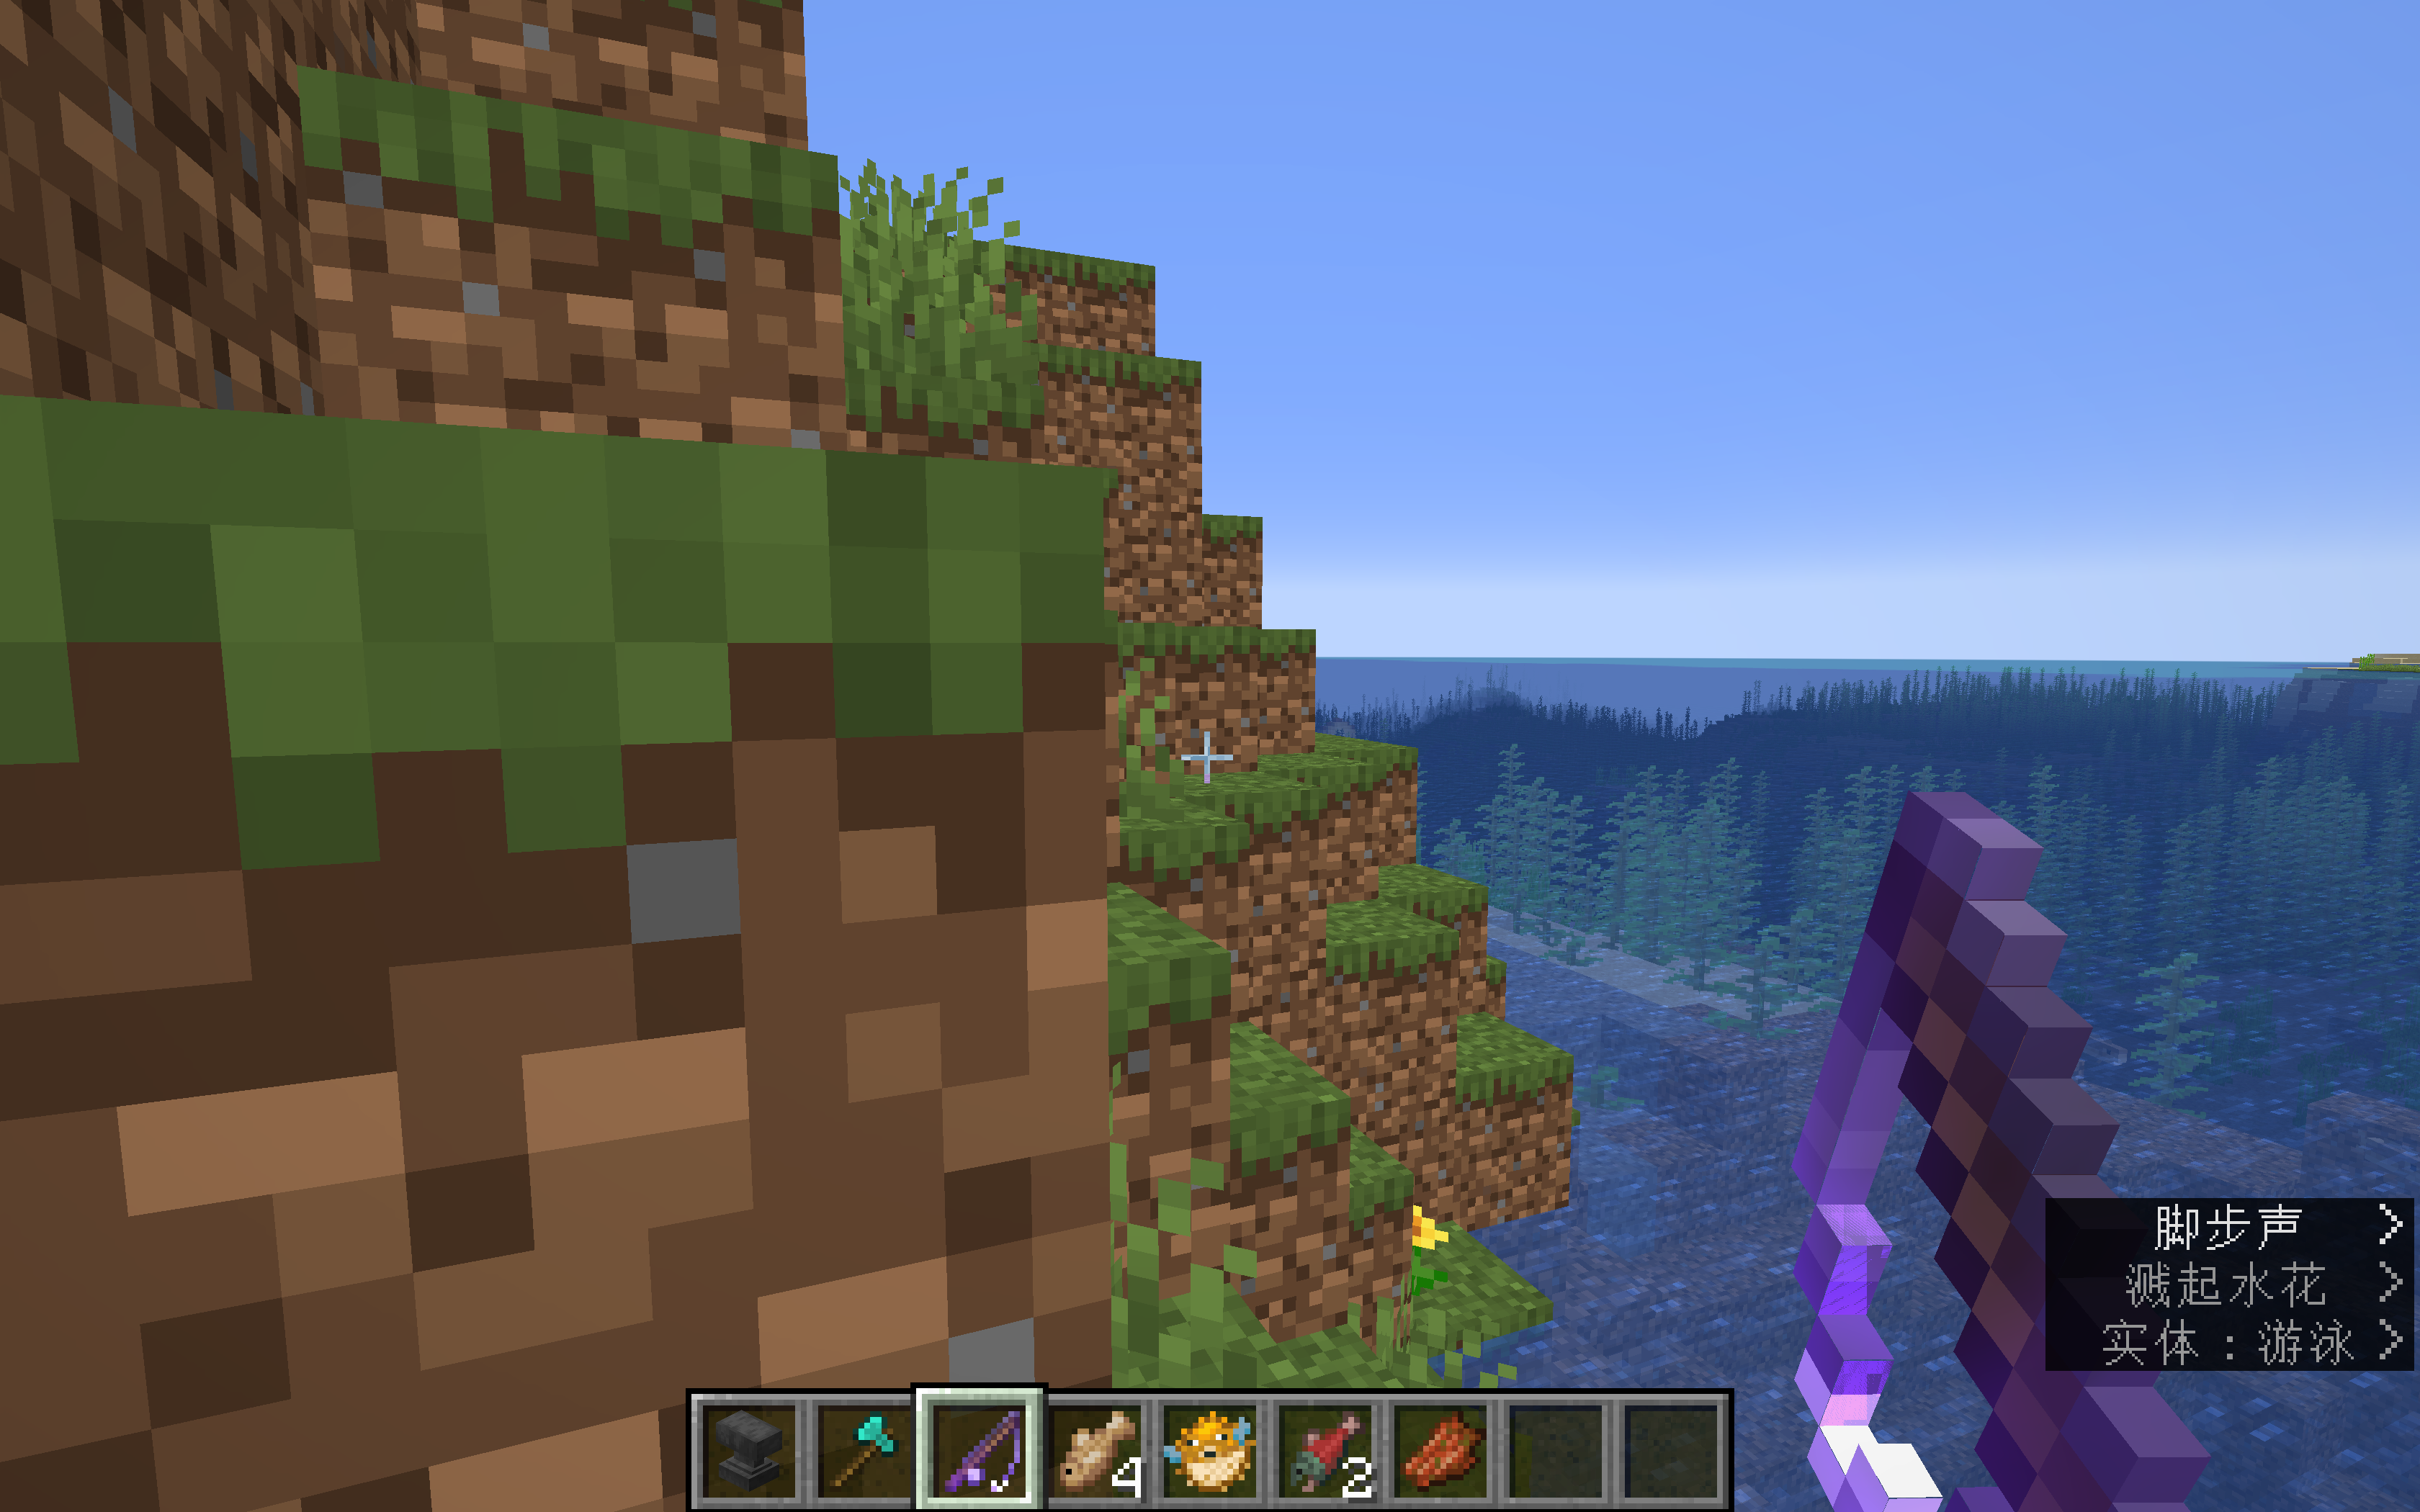inf: (2049, 1200, 2417, 1374)
